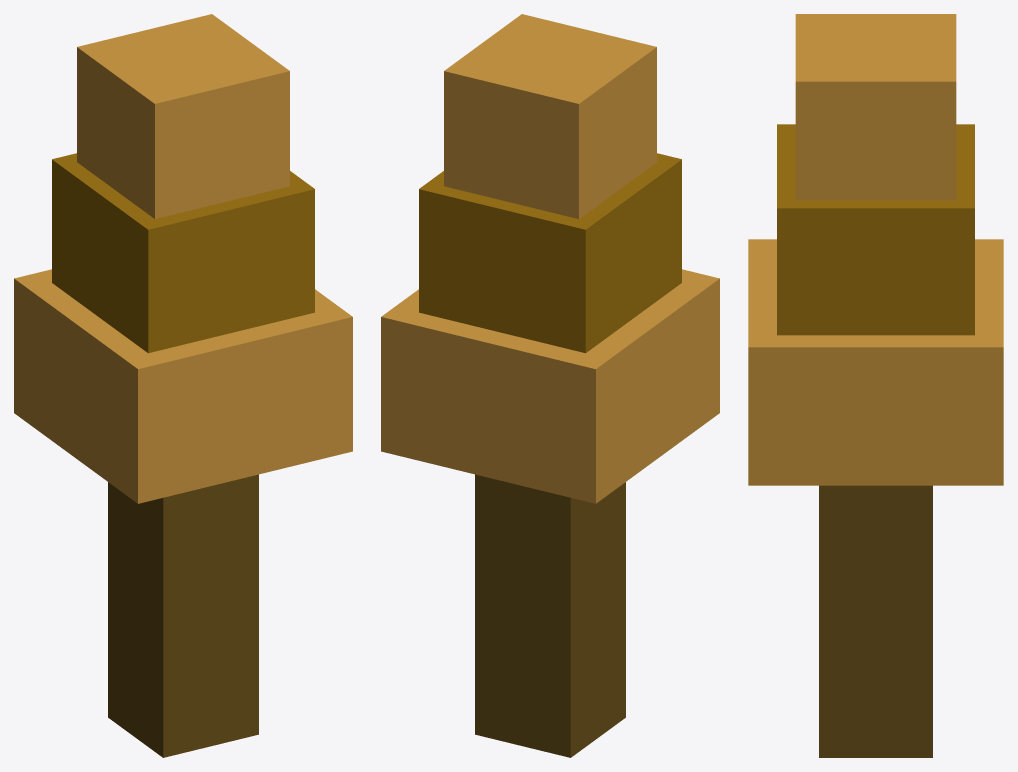
File: fbx_treeoffscreen01.fbx
The picture shows the model from 3 angles, left to right: view 1: azimuth 30°, elevation 25°; view 2: azimuth 150°, elevation 25°; view 3: azimuth 270°, elevation 25°; orthographic projection. The views are drawn at different scales.
Parts seen in each view (by area): view 1: sm_treeoffscreen01; view 2: sm_treeoffscreen01; view 3: sm_treeoffscreen01.
Part boxes in pixels (x1=…): sm_treeoffscreen01: x1=14, y1=14, x2=352, y2=757; sm_treeoffscreen01: x1=381, y1=14, x2=719, y2=757; sm_treeoffscreen01: x1=748, y1=14, x2=1003, y2=757.
Size of the model in its own units: 76.94 by 228 by 76.94.
